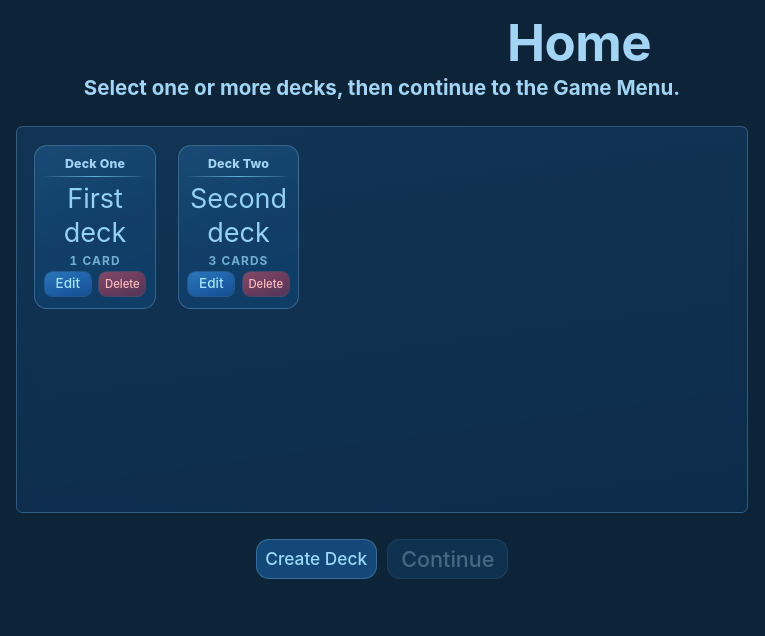
HomePage › clicking a deck toggles selection, the flashcard total, and the Continue button
The width and height of the screenshot is (765, 636).
Expected: the button "Continue" is disabled, [387,539,508,579]
Click the text "Deck Two". click: (239, 227)
box: [178,145,300,309]
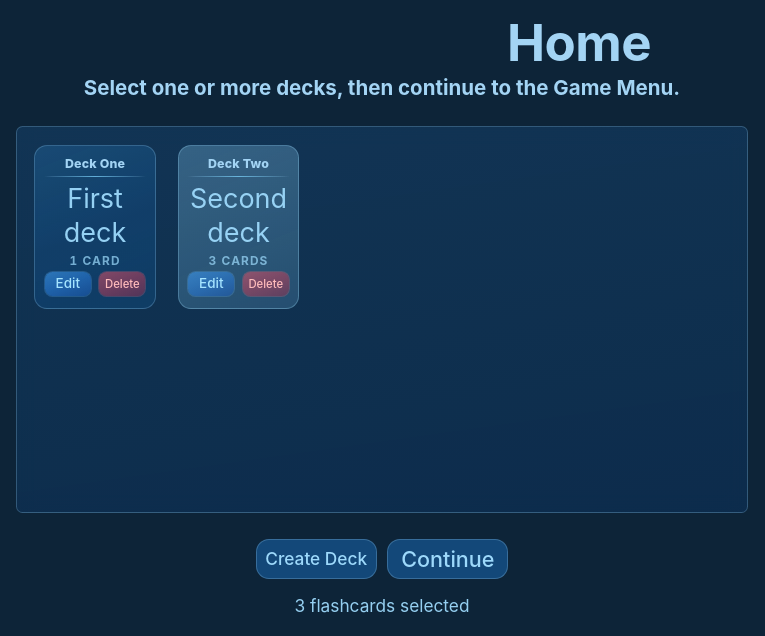
Now the text "3 flashcards selected" is shown, box [294,592,470,620]
Now the button "Continue" is enabled, box [387,539,508,579]
Click the text "Deck One". click: (95, 227)
box: [34,145,156,309]
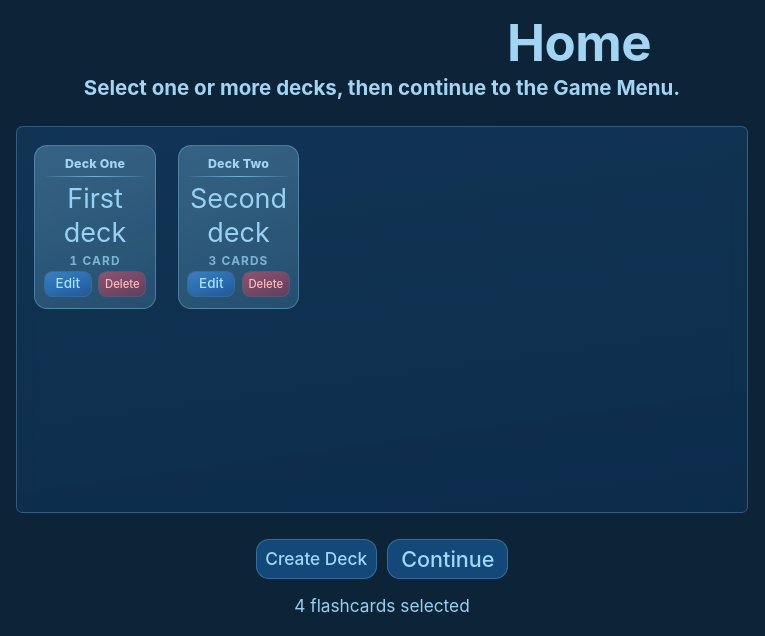
Now the text "4 flashcards selected" is shown, box [294,592,470,620]
Click the text "Deck Two". click: (239, 227)
box: [178,145,300,309]
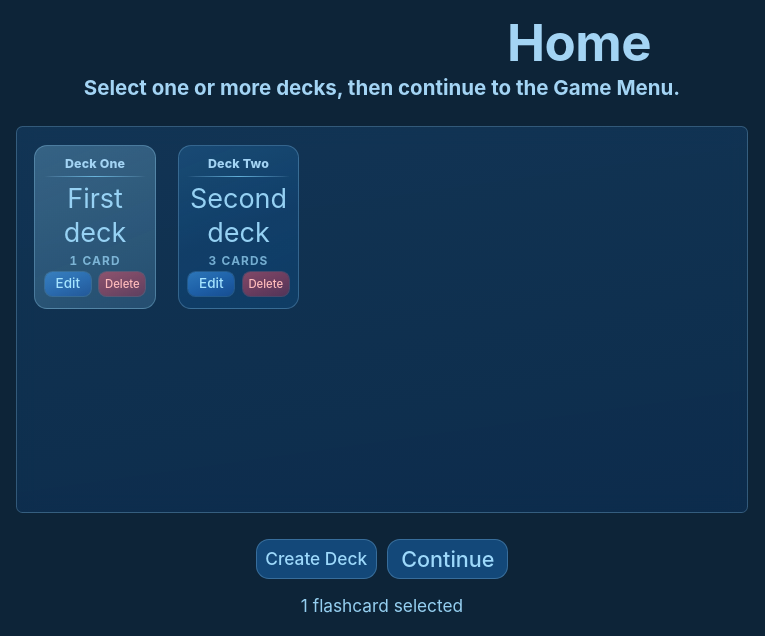
Now the text "1 flashcard selected" is shown, box [301,592,463,620]
